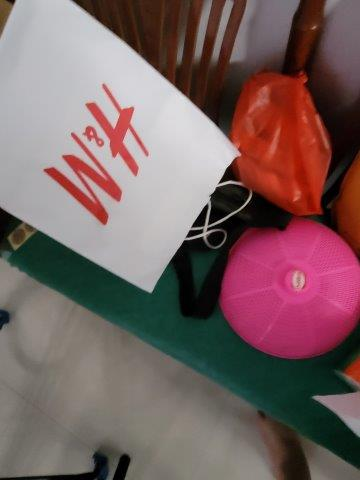plastik: (231, 72, 334, 217)
